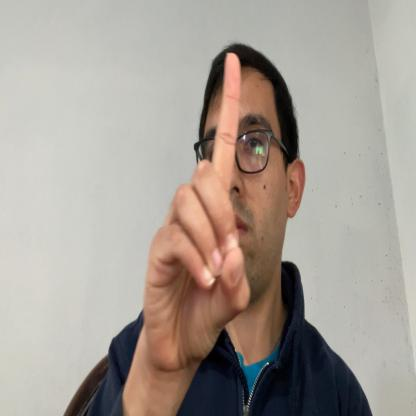D: (144, 52, 251, 375)
